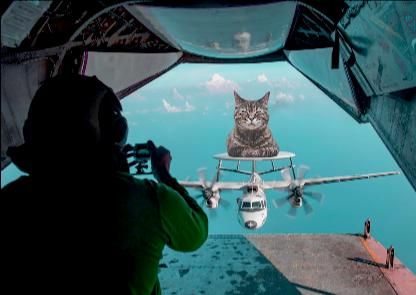C5: (152, 151, 400, 233)
